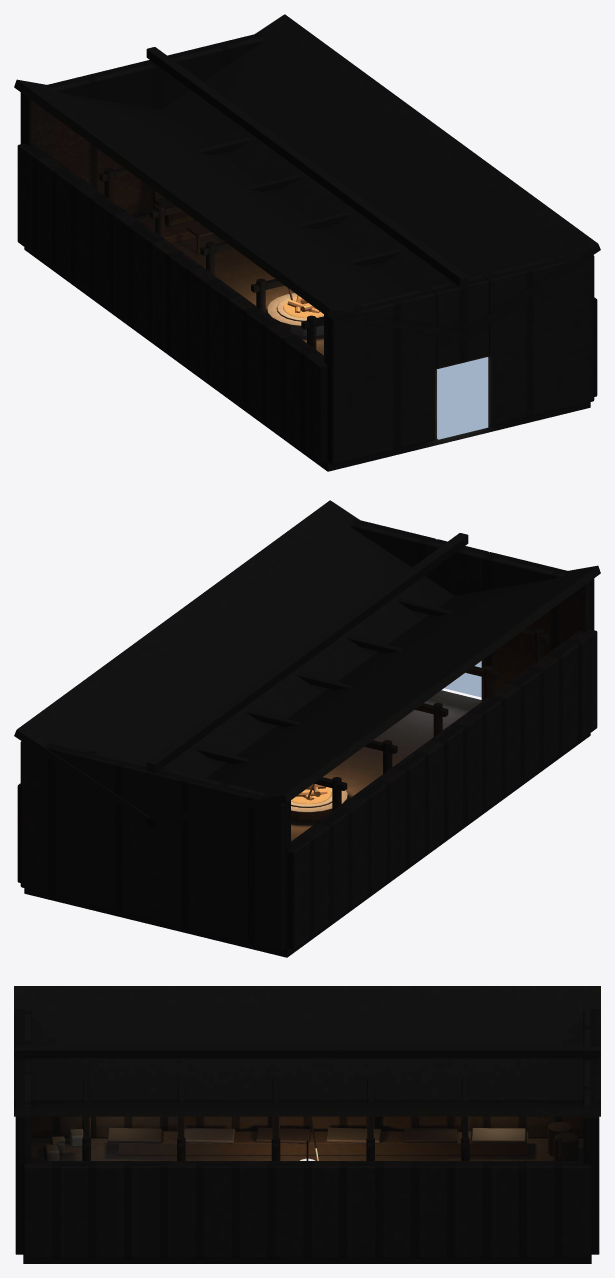
The model's file is longhouse.glb.
3 renders of one model, top to bottom at view 1: azimuth 30°, elevation 25°; view 2: azimuth 150°, elevation 25°; view 3: azimuth 270°, elevation 25°, orthographic. The views are drawn at different scales.
Visible parts, largest first — view 1: Shell, DoorSnow, Furniture; view 2: Shell, Furniture, DoorSnow; view 3: Shell, Furniture.
Boxes of the visible parts, x1,y1,x2,y2 form: Shell: [14, 14, 600, 471]; DoorSnow: [437, 357, 488, 439]; Furniture: [267, 288, 323, 336]; Shell: [14, 500, 600, 957]; Furniture: [291, 783, 347, 822]; DoorSnow: [444, 661, 481, 697]; Shell: [14, 986, 600, 1263]; Furniture: [44, 1117, 578, 1160].
Bounding box in the file's own units: 9.5 × 5.47 × 18.6.
5 materials, 2 textured.
